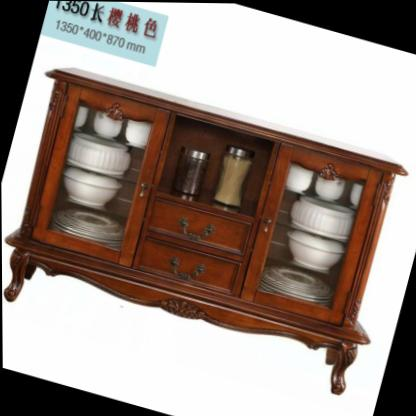Cupboard: (3, 68, 407, 396)
